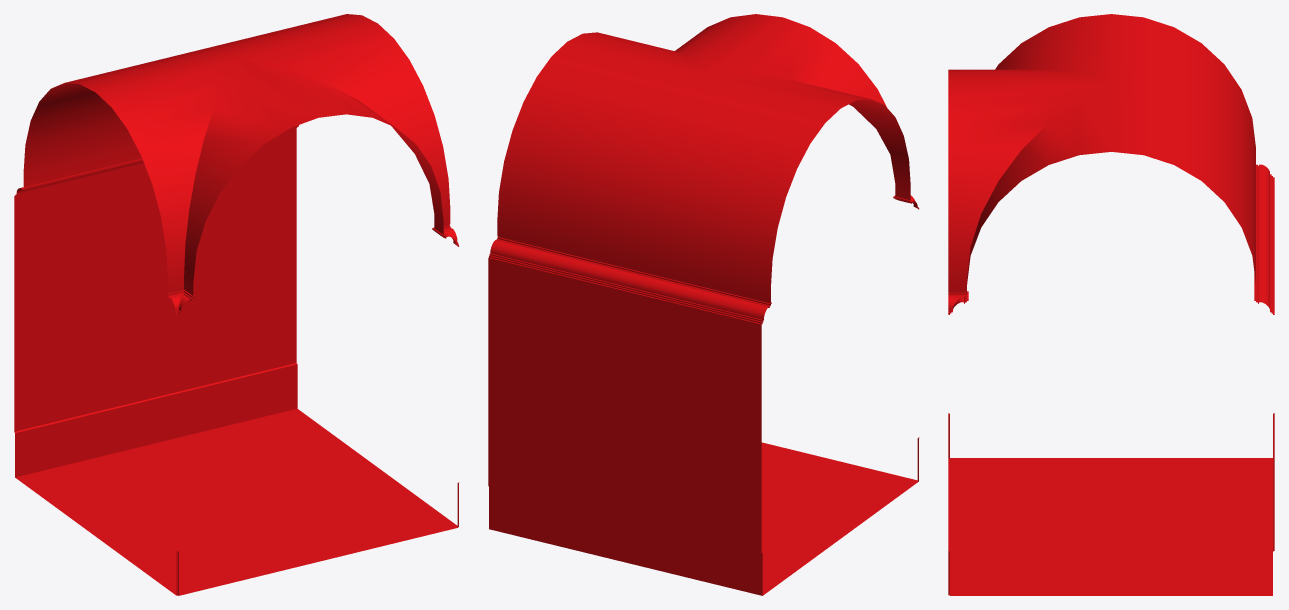
Rendered from Corridor_3Outputs.fbx.
3 views of the same model, side by side, from view 1: azimuth 30°, elevation 25°; view 2: azimuth 150°, elevation 25°; view 3: azimuth 270°, elevation 25° (orthographic). The views are drawn at different scales.
Parts seen in each view (by area): view 1: Couloir4; view 2: Couloir4; view 3: Couloir4.
Part boxes in pixels (x1=…): Couloir4: x1=14, y1=14, x2=459, y2=595; Couloir4: x1=488, y1=14, x2=919, y2=595; Couloir4: x1=948, y1=14, x2=1274, y2=595.
Bounding box in the file's own units: 800 × 1202 × 800.
